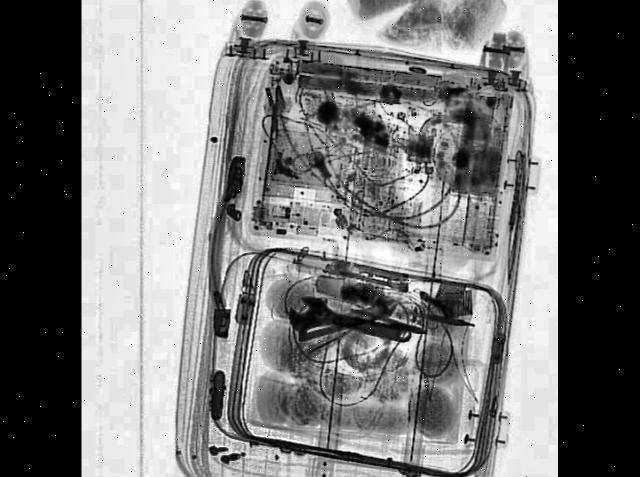Wrench: (287, 288, 412, 355)
